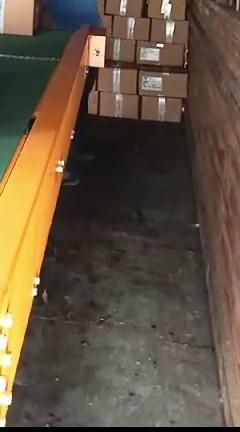box: (138, 67, 188, 99), (97, 63, 137, 94), (136, 42, 184, 66), (145, 18, 188, 44), (140, 96, 182, 122), (99, 92, 138, 118), (112, 16, 150, 40), (87, 27, 106, 67), (105, 37, 135, 62), (99, 10, 112, 36), (88, 90, 98, 114)
